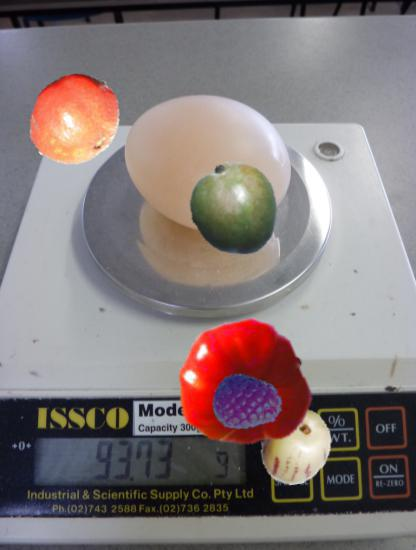Clementine: (25, 69, 124, 168)
Mango: (186, 160, 285, 259)
Pepino: (259, 410, 333, 484)
Raspberry: (212, 370, 282, 440)
Tomato: (174, 320, 307, 453)
